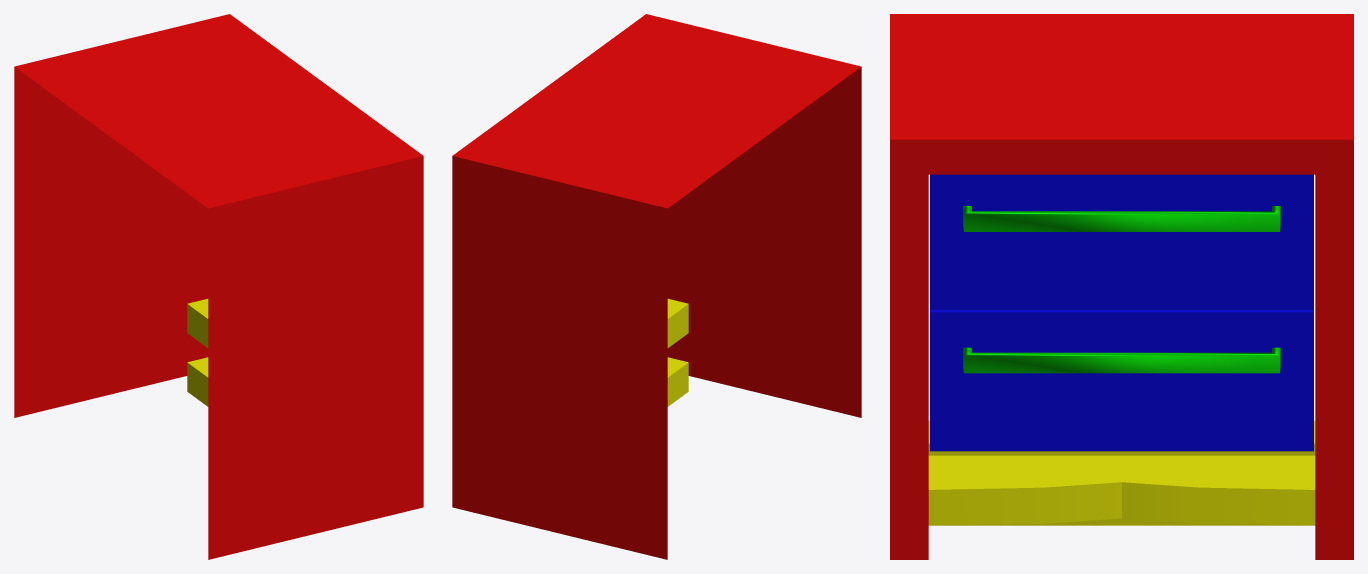
The model's file is Küchentheke_1_gerade_low.fbx.
3 views of the same model, side by side, from view 1: azimuth 30°, elevation 25°; view 2: azimuth 150°, elevation 25°; view 3: azimuth 270°, elevation 25° (orthographic). The views are drawn at different scales.
Visible parts, largest first — view 1: Küchentheke_1_gerade_low; view 2: Küchentheke_1_gerade_low; view 3: Küchentheke_1_gerade_low.
Part boxes in pixels (x1,y1,x2,y2): Küchentheke_1_gerade_low: [14, 14, 423, 559]; Küchentheke_1_gerade_low: [452, 14, 861, 559]; Küchentheke_1_gerade_low: [890, 14, 1353, 559].
Bounding box in the file's own units: 0.6706 × 1 × 1.
